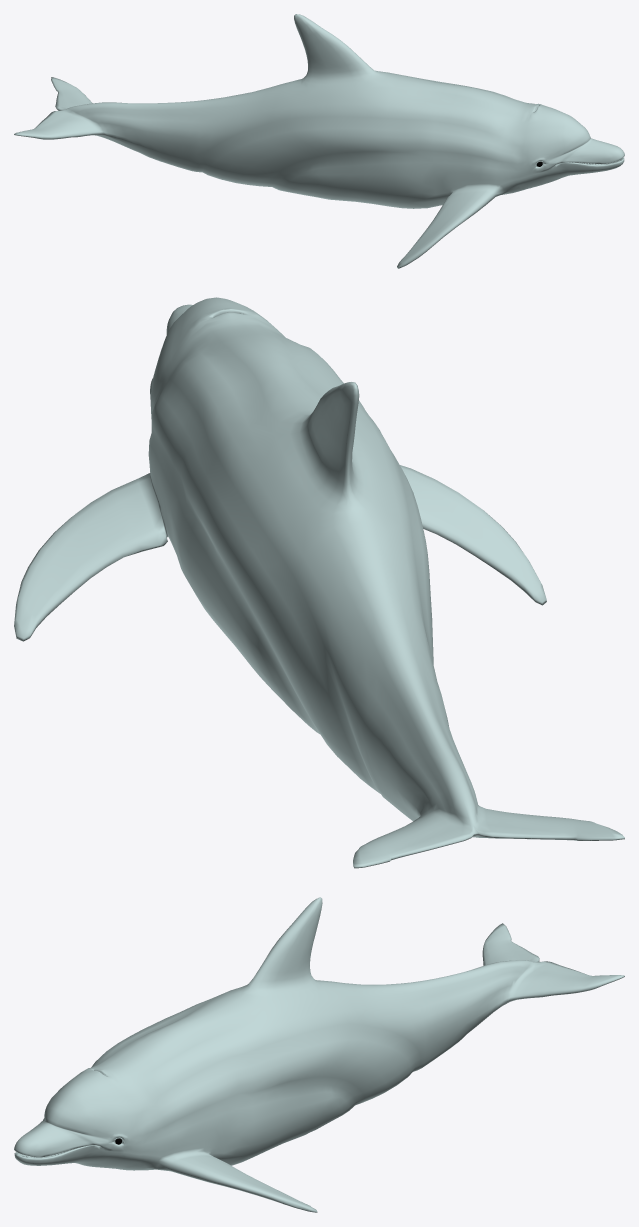
File: dolphin_000010.obj
3 renders of one model, top to bottom at view 1: azimuth 30°, elevation 25°; view 2: azimuth 150°, elevation 25°; view 3: azimuth 270°, elevation 25°, orthographic. The views are drawn at different scales.
Parts seen in each view (by area): view 1: Dolphin; view 2: Dolphin; view 3: Dolphin.
Part boxes in pixels (box(x1,y1,x2,y2)): Dolphin: box(14, 14, 624, 268); Dolphin: box(14, 297, 624, 868); Dolphin: box(14, 897, 624, 1212).
Bounding box in the file's own units: 5.51 × 2.3 × 5.6.
